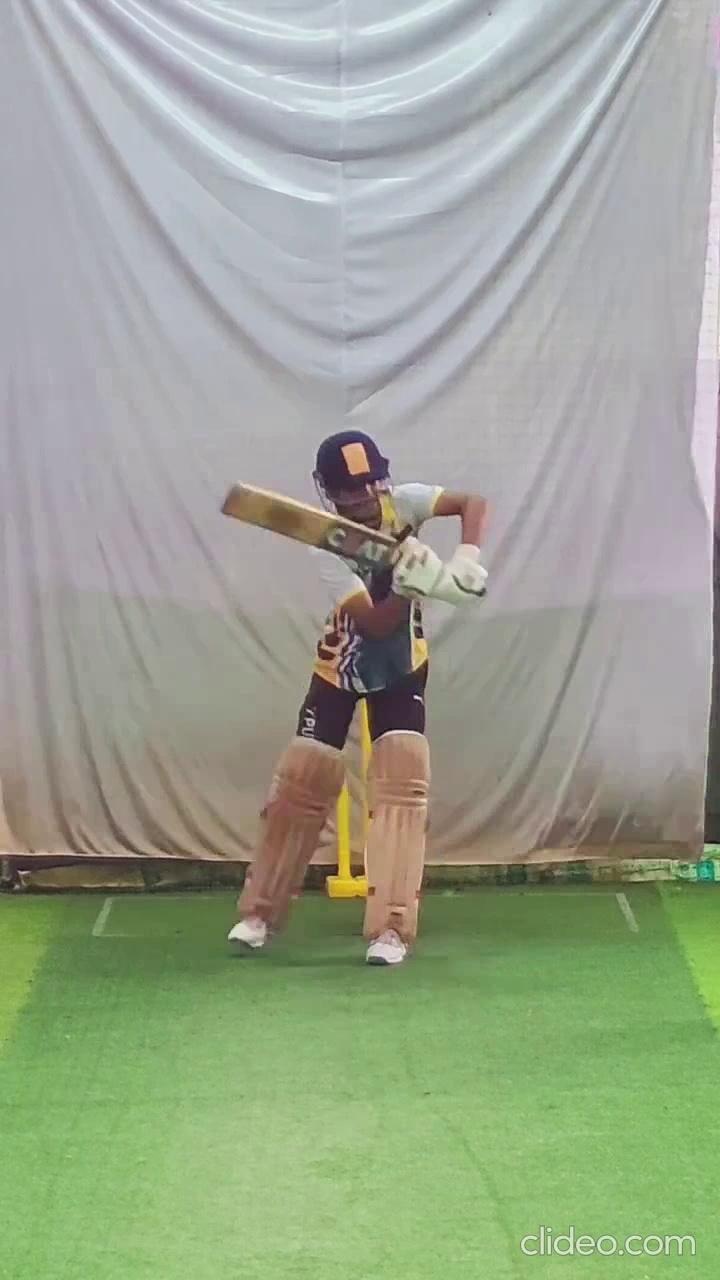bat: (216, 475, 402, 579)
